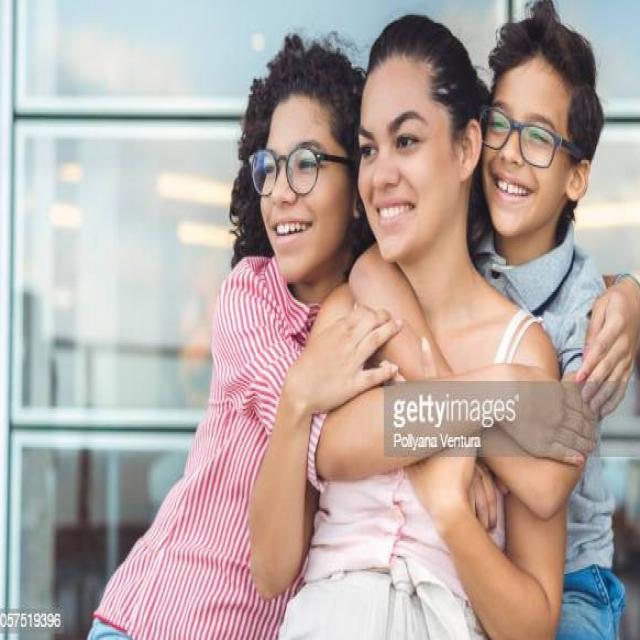Glasses: (478, 101, 586, 172), (246, 143, 349, 198)
